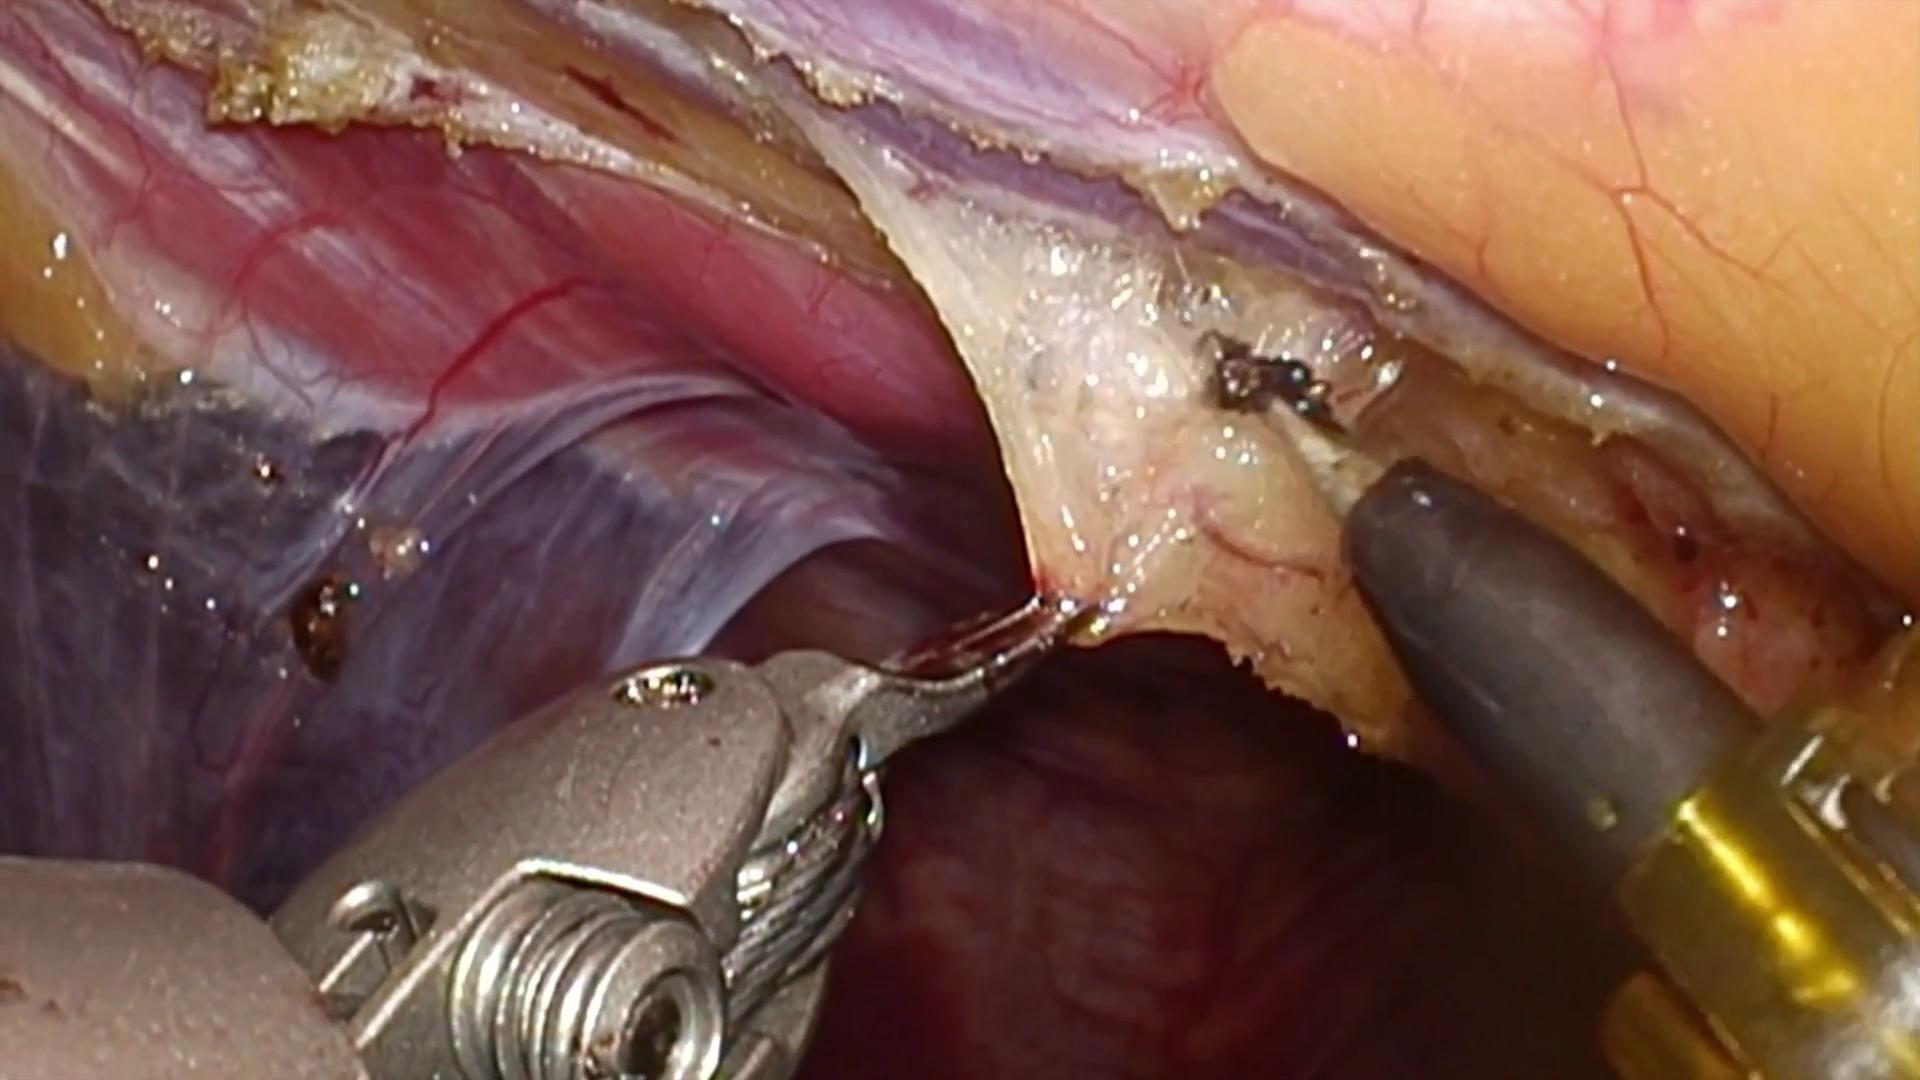Cautery_Spatula: (1226, 356, 1771, 909)
Debakey: (762, 579, 1108, 775)
